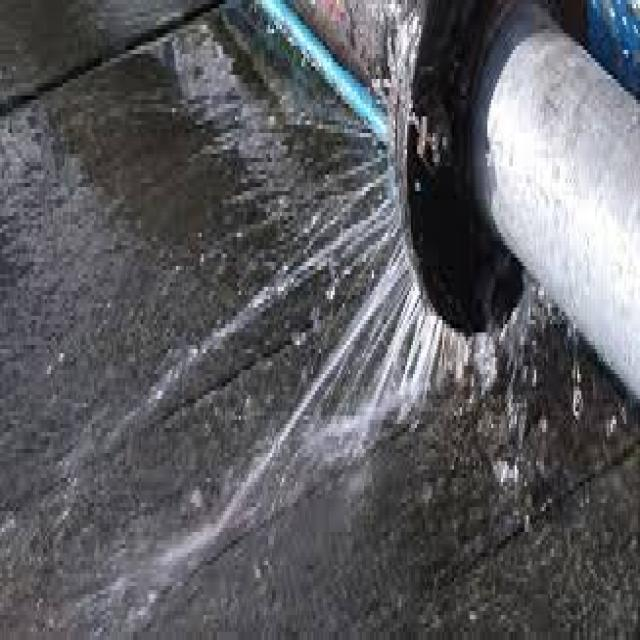leak: (109, 86, 607, 579)
